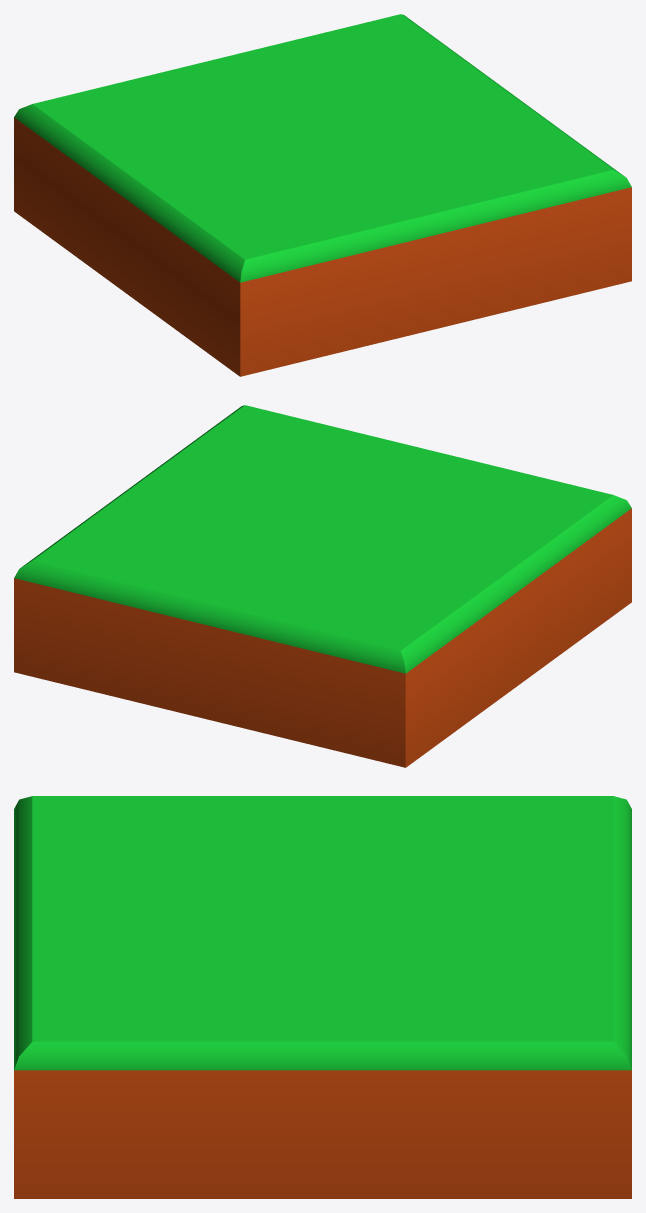
The model's file is LandBase.fbx.
3 views of the same model, one above another, from view 1: azimuth 30°, elevation 25°; view 2: azimuth 150°, elevation 25°; view 3: azimuth 270°, elevation 25° (orthographic). The views are drawn at different scales.
Visible parts, largest first — view 1: Cube; view 2: Cube; view 3: Cube.
Part boxes in pixels (x1,y1,x2,y2): Cube: (14,14,631,376); Cube: (14,405,631,767); Cube: (14,796,631,1198).
Size of the model in its own units: 91.34 by 24.37 by 91.34.
